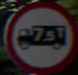Heavy Vehicles: (5, 5, 70, 63)
